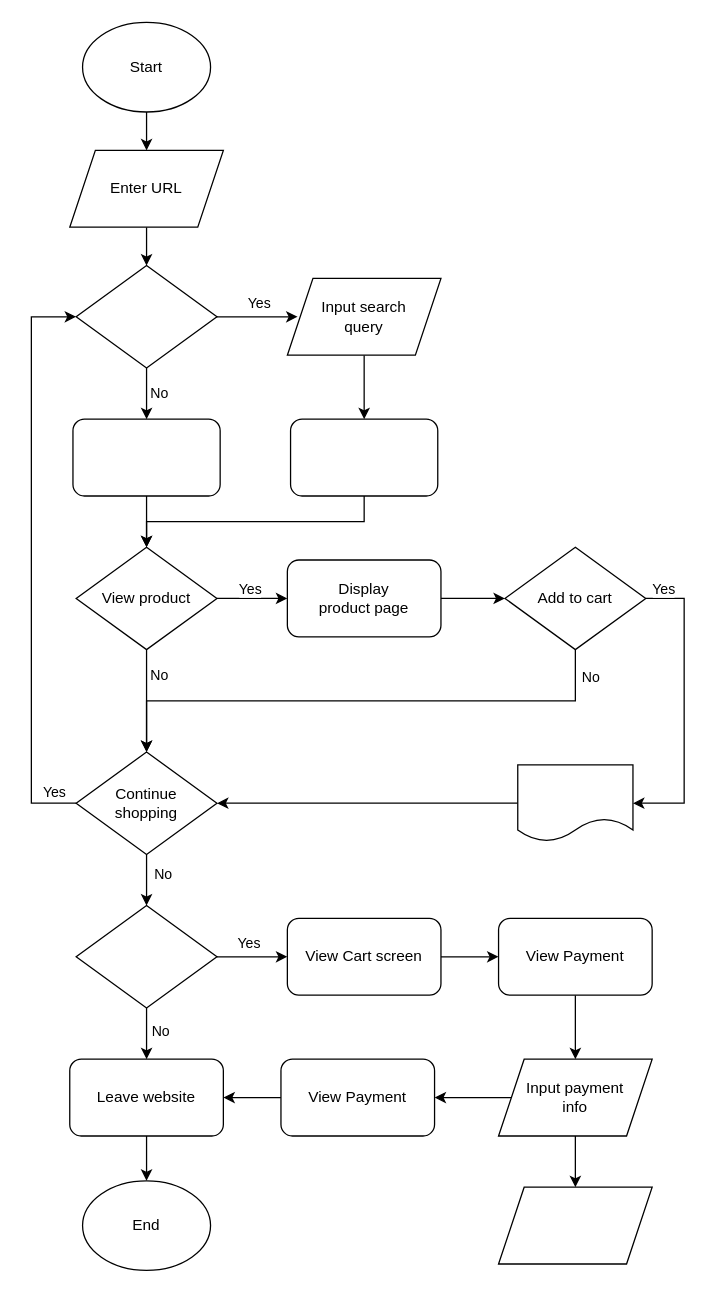
Image size: 717x1293. Some labels were removed from this diagram. The shapes that lost their labels are listed below. From the top down, each one's box as (x1, y1, x2, y2) in pixels, then its label:
(75, 264, 217, 368): Search for product
(72, 418, 220, 496): Display home page
(289, 418, 438, 496): Display search page
(516, 764, 633, 842): Added Confirmation
(75, 904, 217, 1008): Checkout
(497, 1186, 652, 1264): Output email receipt
